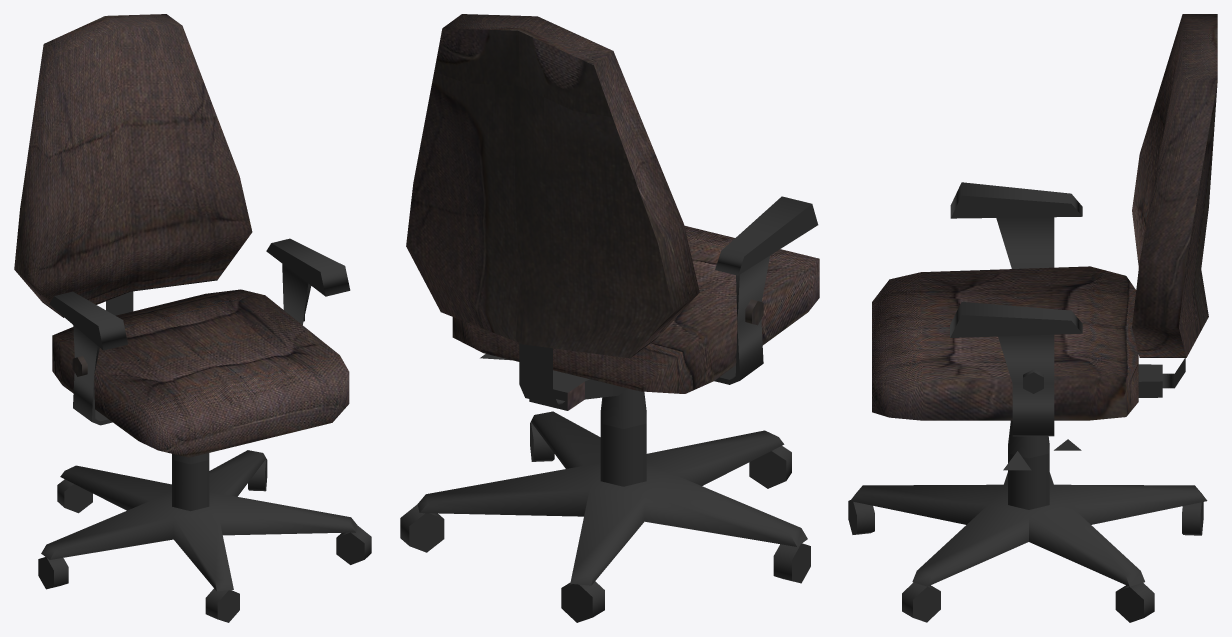
File: M_Home_Garden_Chair_05.fbx
The picture shows the model from 3 angles, left to right: view 1: azimuth 30°, elevation 25°; view 2: azimuth 150°, elevation 25°; view 3: azimuth 270°, elevation 25°; orthographic projection. The views are drawn at different scales.
Parts seen in each view (by area): view 1: M_Home_Garden_Chair_05; view 2: M_Home_Garden_Chair_05; view 3: M_Home_Garden_Chair_05.
Boxes of the visible parts, x1,y1,x2,y2 form: M_Home_Garden_Chair_05: (14, 14, 371, 622); M_Home_Garden_Chair_05: (400, 14, 819, 622); M_Home_Garden_Chair_05: (848, 14, 1217, 622).
Bounding box in the file's own units: 70.59 × 117 × 74.66.
